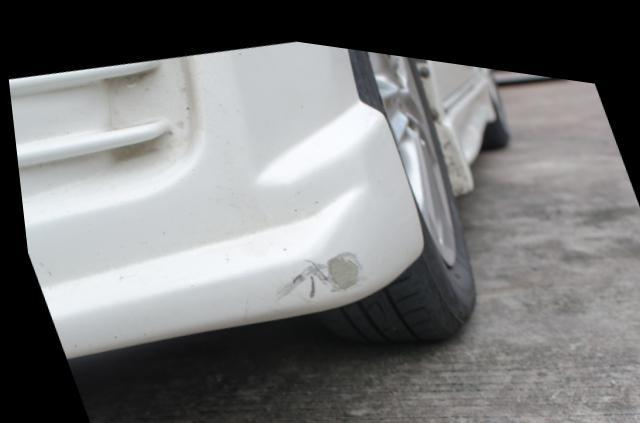scratch: (270, 237, 362, 296)
